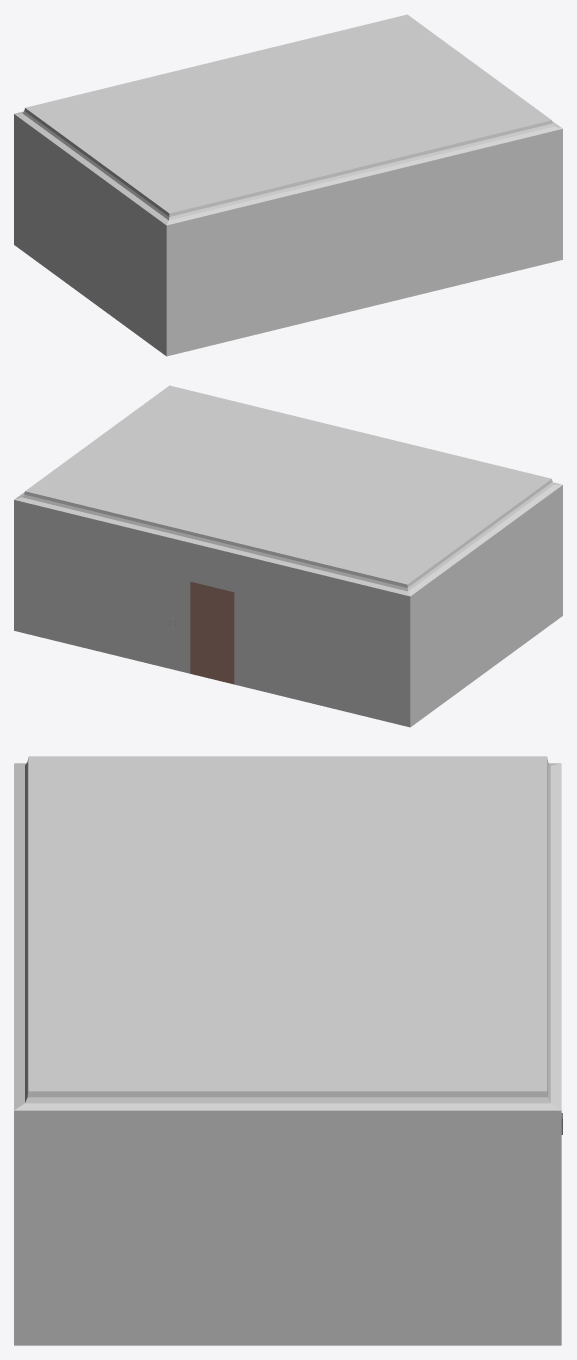
Rendered from tutorial_room_elevator.fbx.
3 renders of one model, top to bottom at view 1: azimuth 30°, elevation 25°; view 2: azimuth 150°, elevation 25°; view 3: azimuth 270°, elevation 25°, orthographic. The views are drawn at different scales.
Visible parts, largest first — view 1: room; view 2: room; view 3: room.
Part boxes in pixels (bbox=[...]): room: bbox=[14, 14, 562, 356]; room: bbox=[14, 385, 562, 727]; room: bbox=[14, 756, 561, 1345].
Size of the model in its own units: 900 by 300 by 601.
